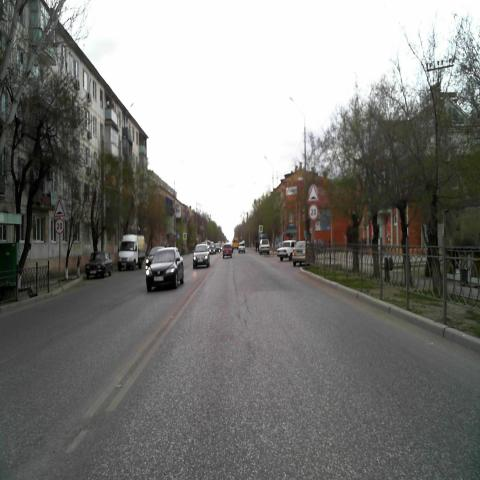1_17: (307, 183, 318, 202), (54, 200, 65, 218)
3_24: (308, 203, 318, 220), (55, 219, 64, 234)
